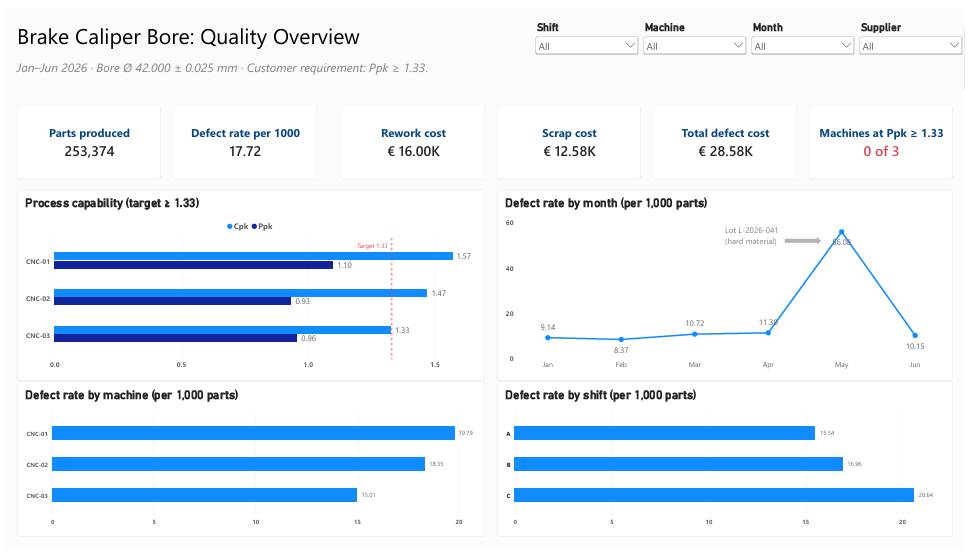

The page's visual inventory and layout, read from the dashboard file:
{"tool":"powerbi","page":{"name":"Overview","canvas":[1920,1080],"ordinal":0},"visuals":[{"type":"lineChart","title":"Defect rate by month (per 1,000 parts)","fields":{"Category":["Calendar.Month"],"Y":["Measures (3).Defect rate per 1000"]},"box":[984,360,912,384],"z":0},{"type":"cardVisual","fields":{"Data":["Measures (3).Parts produced"]},"box":[24,192,288,150],"z":1000},{"type":"cardVisual","fields":{"Data":["Measures (3).Defect rate per 1000"]},"box":[336,192,288,150],"z":2000},{"type":"cardVisual","fields":{"Data":["Measures (3).Rework cost"]},"box":[672,192,288,150],"z":3000},{"type":"cardVisual","fields":{"Data":["Measures (3).Scrap cost"]},"box":[984,192,288,150],"z":4000},{"type":"cardVisual","fields":{"Data":["Measures (3).Total defect cost"]},"box":[1296,192,288,150],"z":5000},{"type":"clusteredBarChart","title":"Process capability (target ≥ 1.33)","fields":{"Category":["machines.machine_id"],"Y":["Measures (3).Cpk","Measures (3).Ppk"]},"box":[24,360,936,384],"z":6000},{"type":"slicer","fields":{"Values":["Calendar.Month"]},"box":[1488,24,216,144],"z":7000},{"type":"slicer","fields":{"Values":["Shifts.shift"]},"box":[1056,24,216,144],"z":8000},{"type":"slicer","fields":{"Values":["machines.machine_id"]},"box":[1272,24,216,144],"z":9000},{"type":"slicer","fields":{"Values":["suppliers.supplier_name"]},"box":[1704,24,216,144],"z":10000},{"type":"barChart","title":"Defect rate by machine (per 1,000 parts)","fields":{"Category":["machines.machine_id"],"Y":["Measures (3).Defect rate per 1000"]},"box":[24,744,936,312],"z":11000},{"type":"clusteredBarChart","title":"Defect rate by shift (per 1,000 parts)","fields":{"Category":["Shifts.shift"],"Y":["Measures (3).Defect rate per 1000"]},"box":[984,744,912,312],"z":12000},{"type":"cardVisual","fields":{"Data":["Measures (3).Machines meeting target"]},"box":[1608,192,288,150],"z":13000},{"type":"textbox","box":[24,24,840,144],"z":14000},{"type":"textbox","box":[1440,432,144,144],"z":15000},{"type":"shape","box":[1560,456,72,15],"z":16000}]}

Visuals, with their boxes in screenshot pixels (x1, y1, x2, y2), scaled from the page's 1920x1080 canvas onto the 970x558 screenshot:
"Defect rate by month (per 1,000 parts)" lineChart: region(497, 186, 958, 384)
cardVisual - Measures (3).Parts produced: region(12, 99, 158, 177)
cardVisual - Measures (3).Defect rate per 1000: region(170, 99, 315, 177)
cardVisual - Measures (3).Rework cost: region(340, 99, 485, 177)
cardVisual - Measures (3).Scrap cost: region(497, 99, 643, 177)
cardVisual - Measures (3).Total defect cost: region(655, 99, 800, 177)
"Process capability (target ≥ 1.33)" clusteredBarChart: region(12, 186, 485, 384)
slicer - Calendar.Month: region(752, 12, 861, 87)
slicer - Shifts.shift: region(534, 12, 643, 87)
slicer - machines.machine_id: region(643, 12, 752, 87)
slicer - suppliers.supplier_name: region(861, 12, 969, 87)
"Defect rate by machine (per 1,000 parts)" barChart: region(12, 384, 485, 546)
"Defect rate by shift (per 1,000 parts)" clusteredBarChart: region(497, 384, 958, 546)
cardVisual - Measures (3).Machines meeting target: region(812, 99, 958, 177)
textbox: region(12, 12, 437, 87)
textbox: region(728, 223, 800, 298)
shape: region(788, 236, 825, 243)
